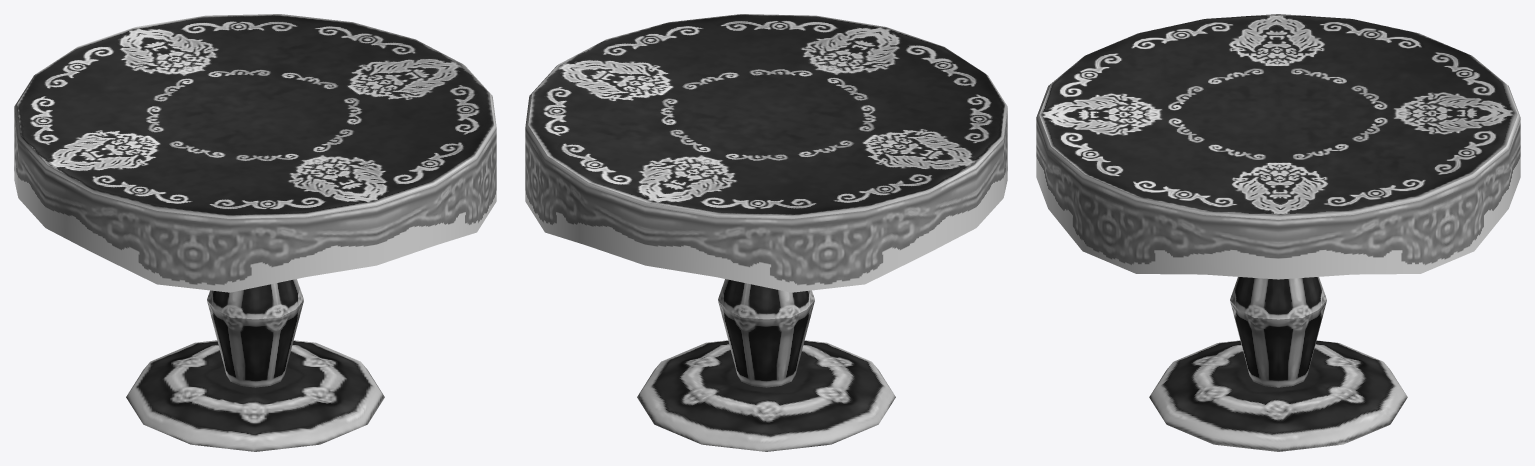
Rendered from KingRoundTable_HD.fbx.
3 views of the same model, side by side, from view 1: azimuth 30°, elevation 25°; view 2: azimuth 150°, elevation 25°; view 3: azimuth 270°, elevation 25° (orthographic).
Visible parts, largest first — view 1: KingRoundTable; view 2: KingRoundTable; view 3: KingRoundTable.
Part boxes in pixels (box(x1,y1,x2,y2)): KingRoundTable: box(14, 14, 496, 451); KingRoundTable: box(525, 14, 1007, 451); KingRoundTable: box(1036, 14, 1520, 451).
Bounding box in the file's own units: 0.941 × 0.6049 × 0.941.
